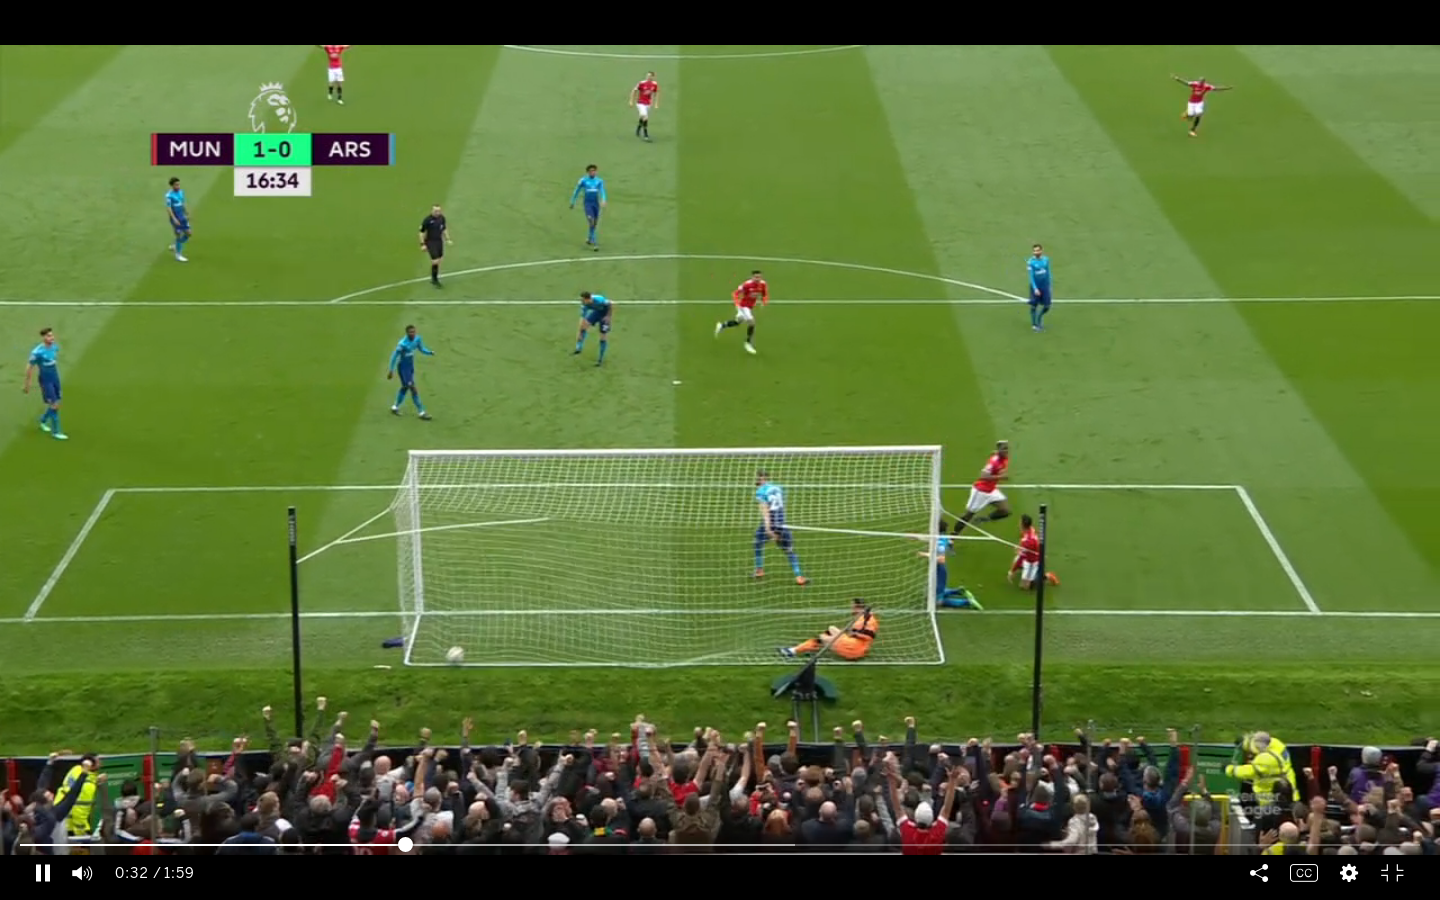referee: (413, 202, 458, 296)
soccer player: (741, 463, 813, 588), (778, 596, 885, 662), (956, 432, 1022, 534), (19, 326, 70, 445), (715, 266, 781, 357), (384, 322, 438, 426), (1170, 71, 1241, 145), (568, 286, 621, 379), (1005, 514, 1065, 594), (568, 156, 613, 254), (158, 172, 198, 268), (1021, 237, 1059, 329), (628, 68, 664, 146), (318, 45, 355, 106)
soccerball: (442, 639, 470, 672)
